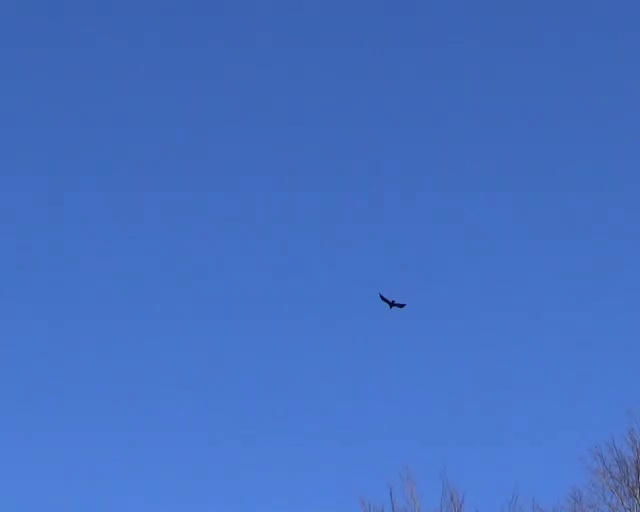BIRD: (379, 293, 406, 310)
